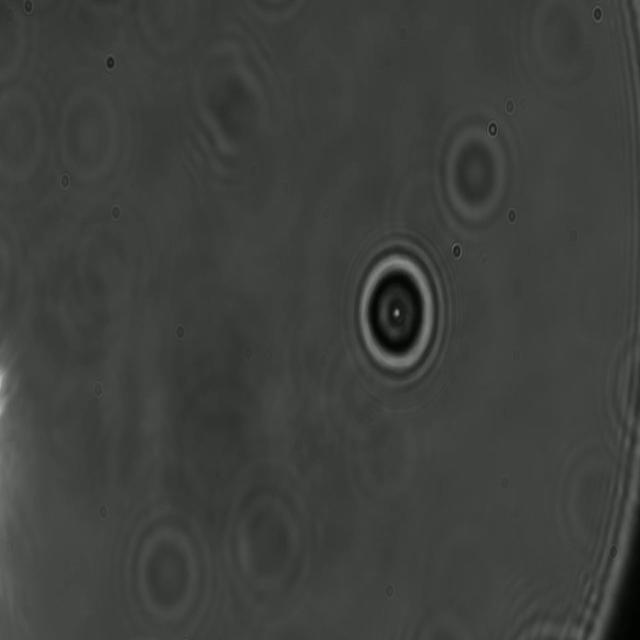LCELL: (341, 235, 454, 391)
